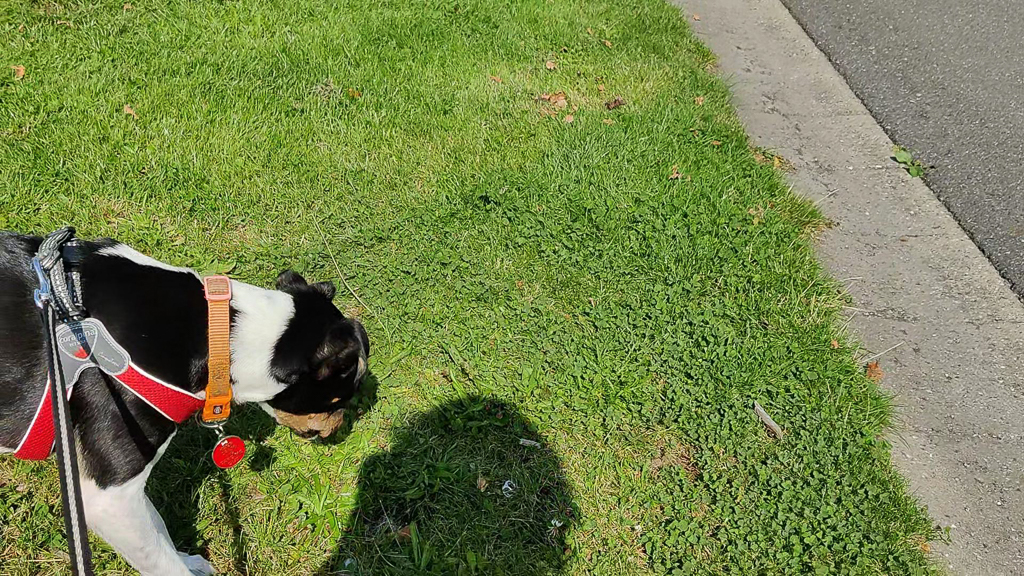Dog: (0, 213, 382, 576)
